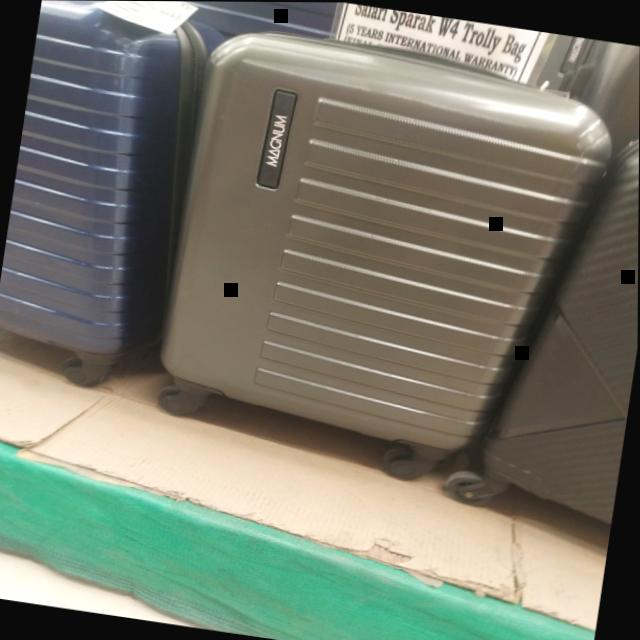luggage: (161, 32, 611, 478), (0, 0, 220, 388), (444, 140, 639, 526), (593, 41, 640, 160)
